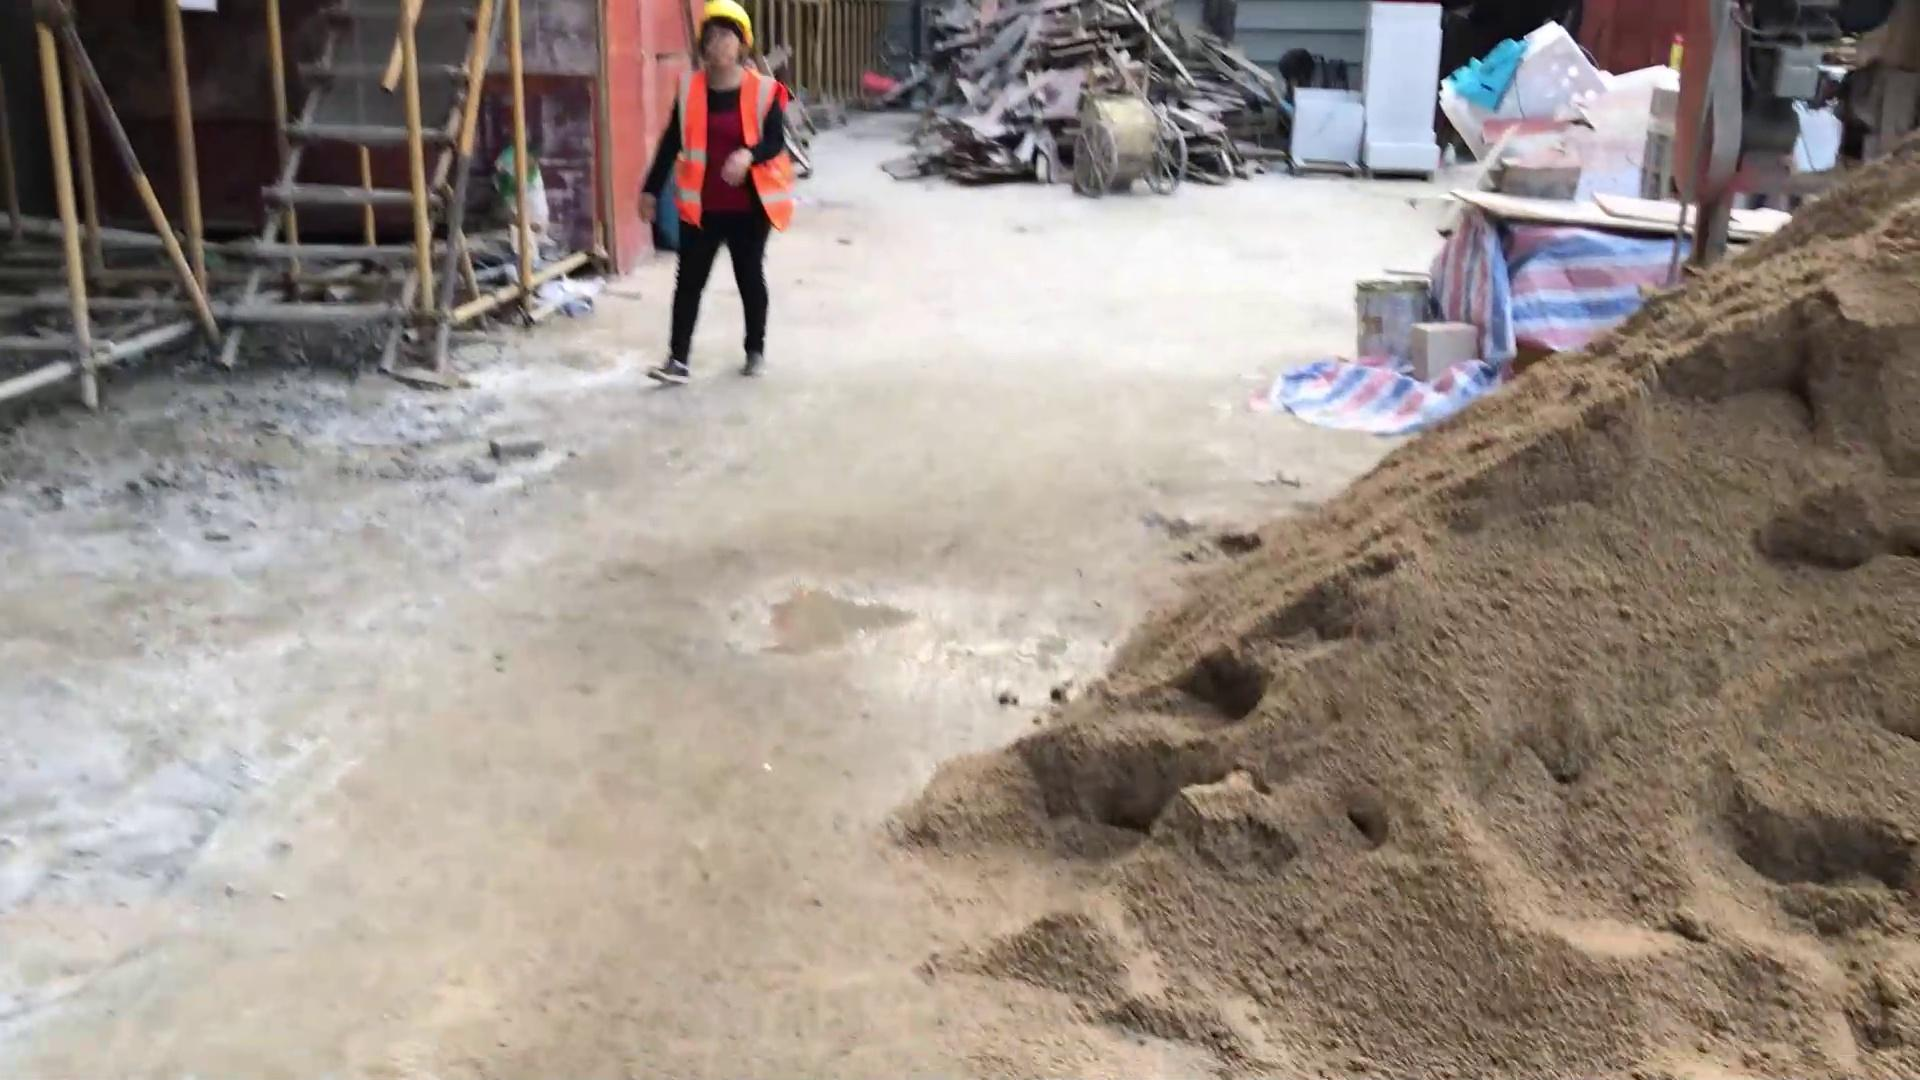helmet: (685, 1, 763, 50)
person: (629, 1, 799, 397)
vest: (666, 63, 797, 242)
